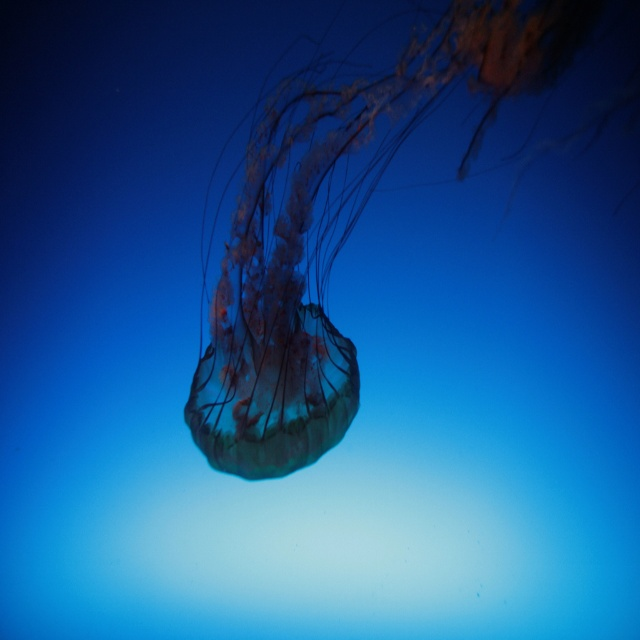Jellyfish: (181, 8, 464, 484)
